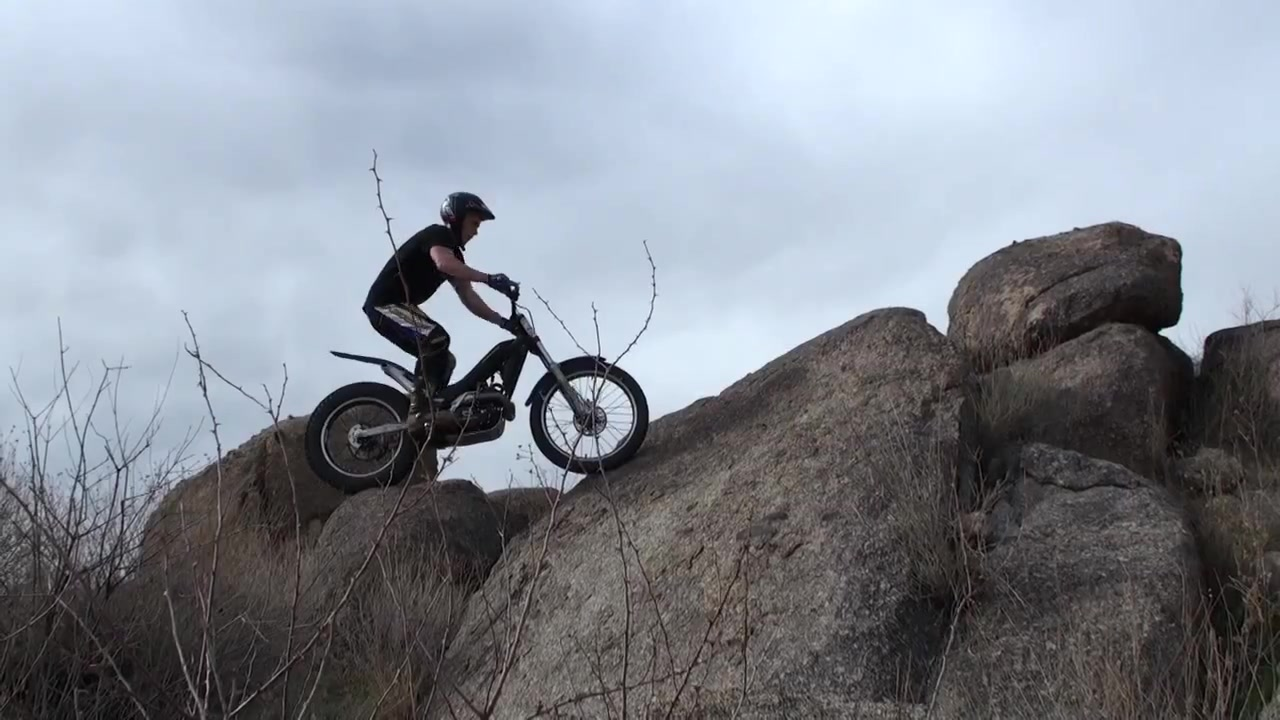motorbike: (298, 278, 653, 495)
